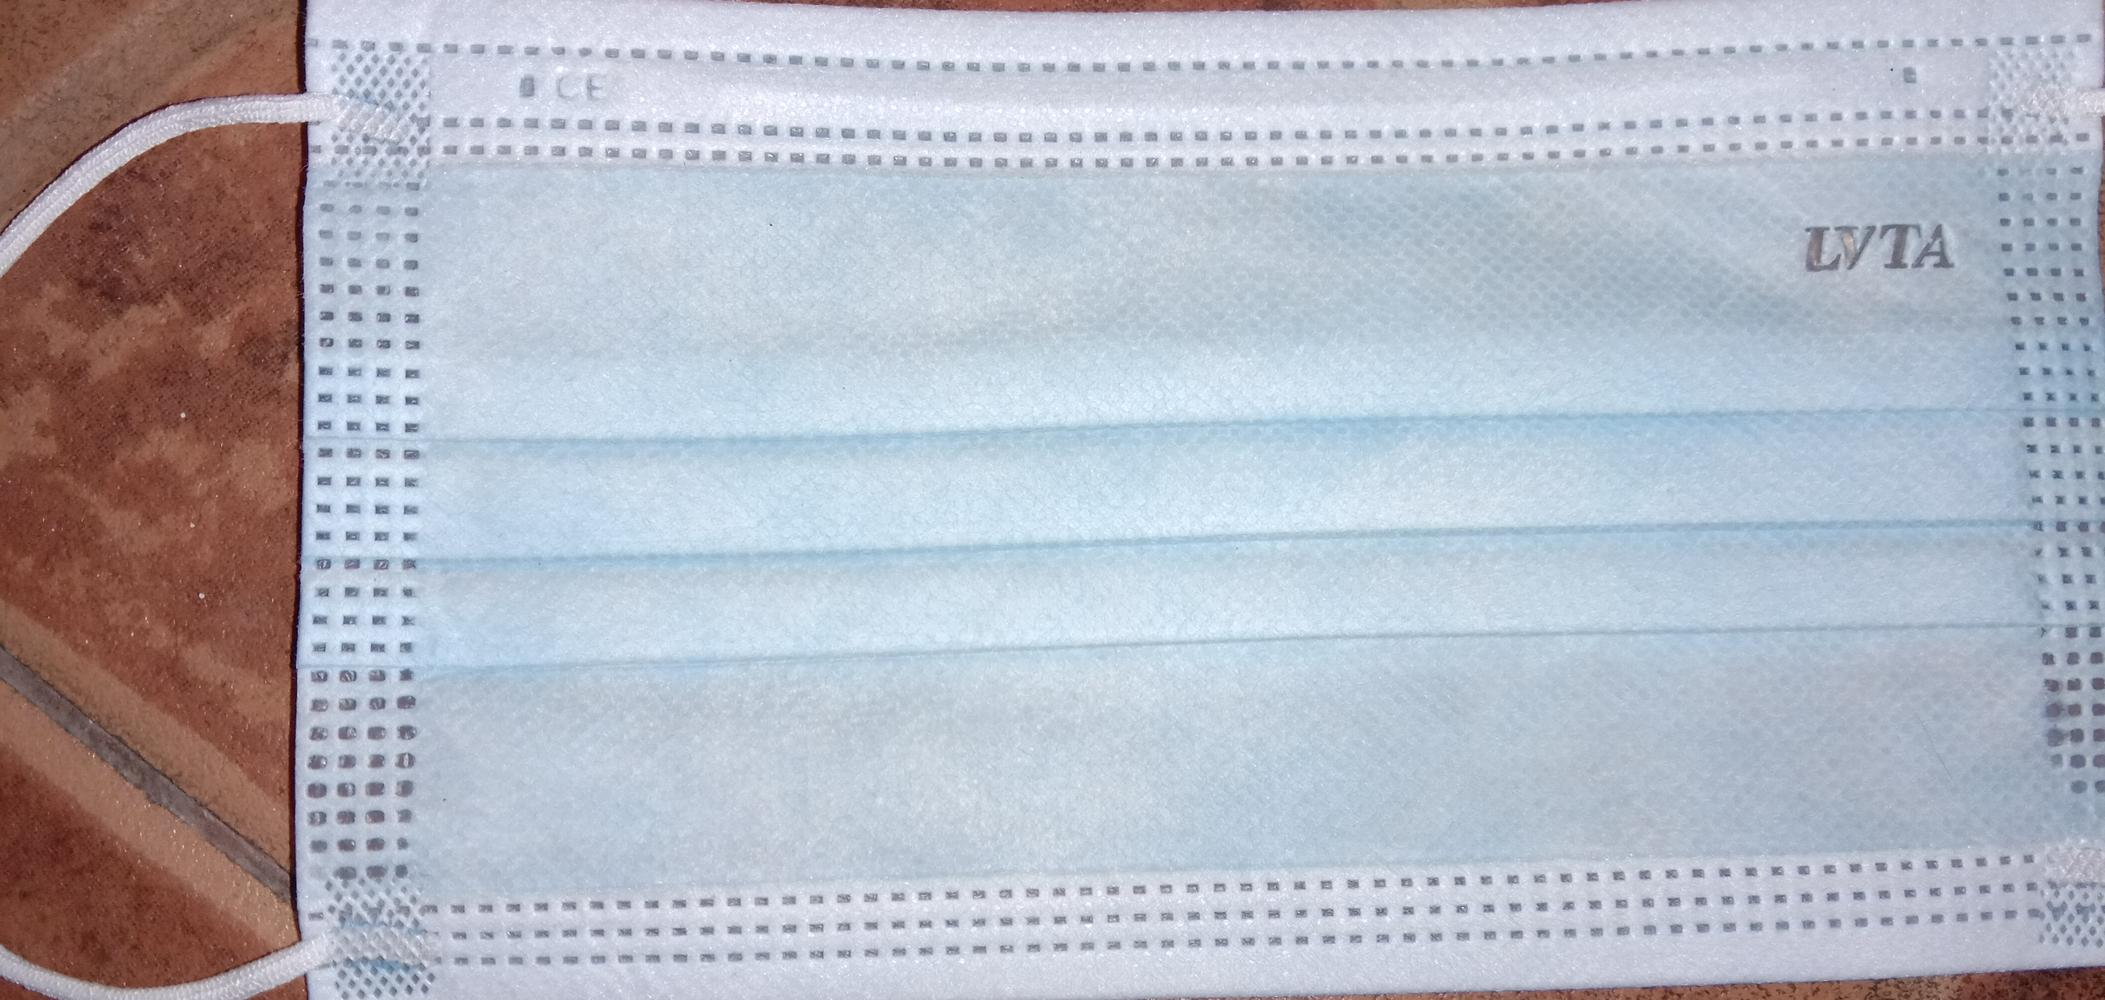Face Mask: (312, 11, 2095, 1000)
